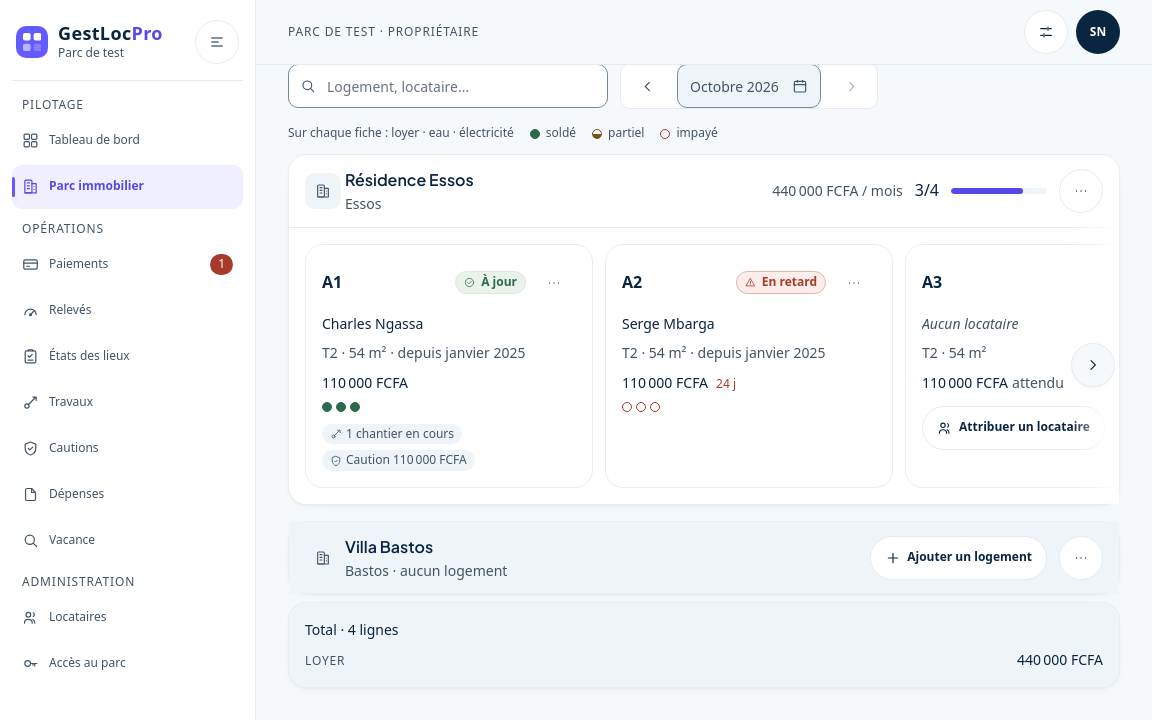
Test: le parc sur bureau › ouvre la fiche locataire sur le logement vacant, depuis sa fiche
(page scrolled)
Click the button "Attribuer un locataire" at x=1013, y=428, box [922, 406, 1105, 450]
(page scrolled)
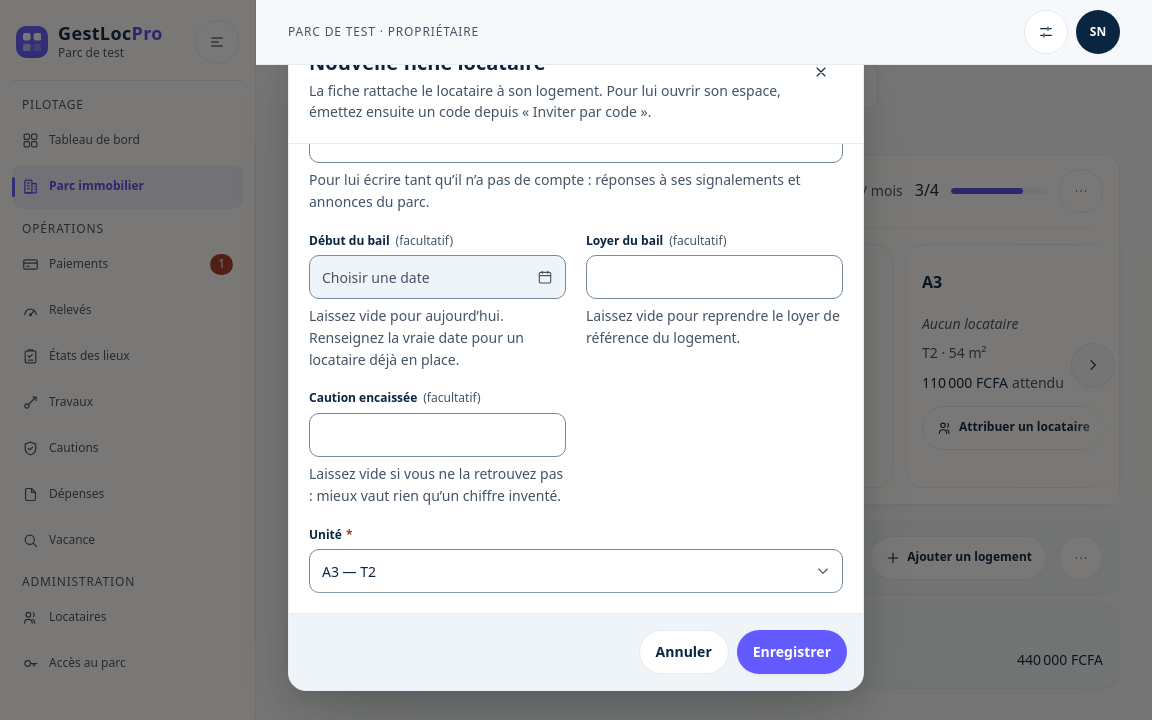
Click the dropdown labelled "Unité*" at x=576, y=572, box [309, 550, 843, 594]
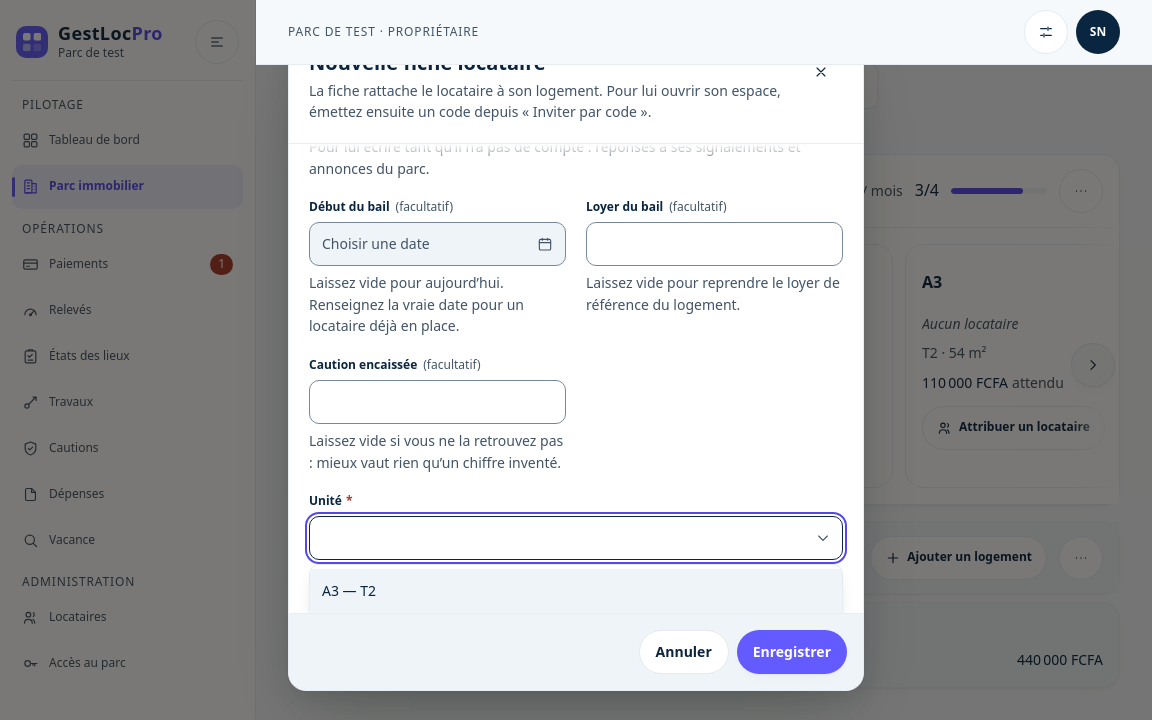
Expected: the number of options is 1, [310, 569, 842, 613]
